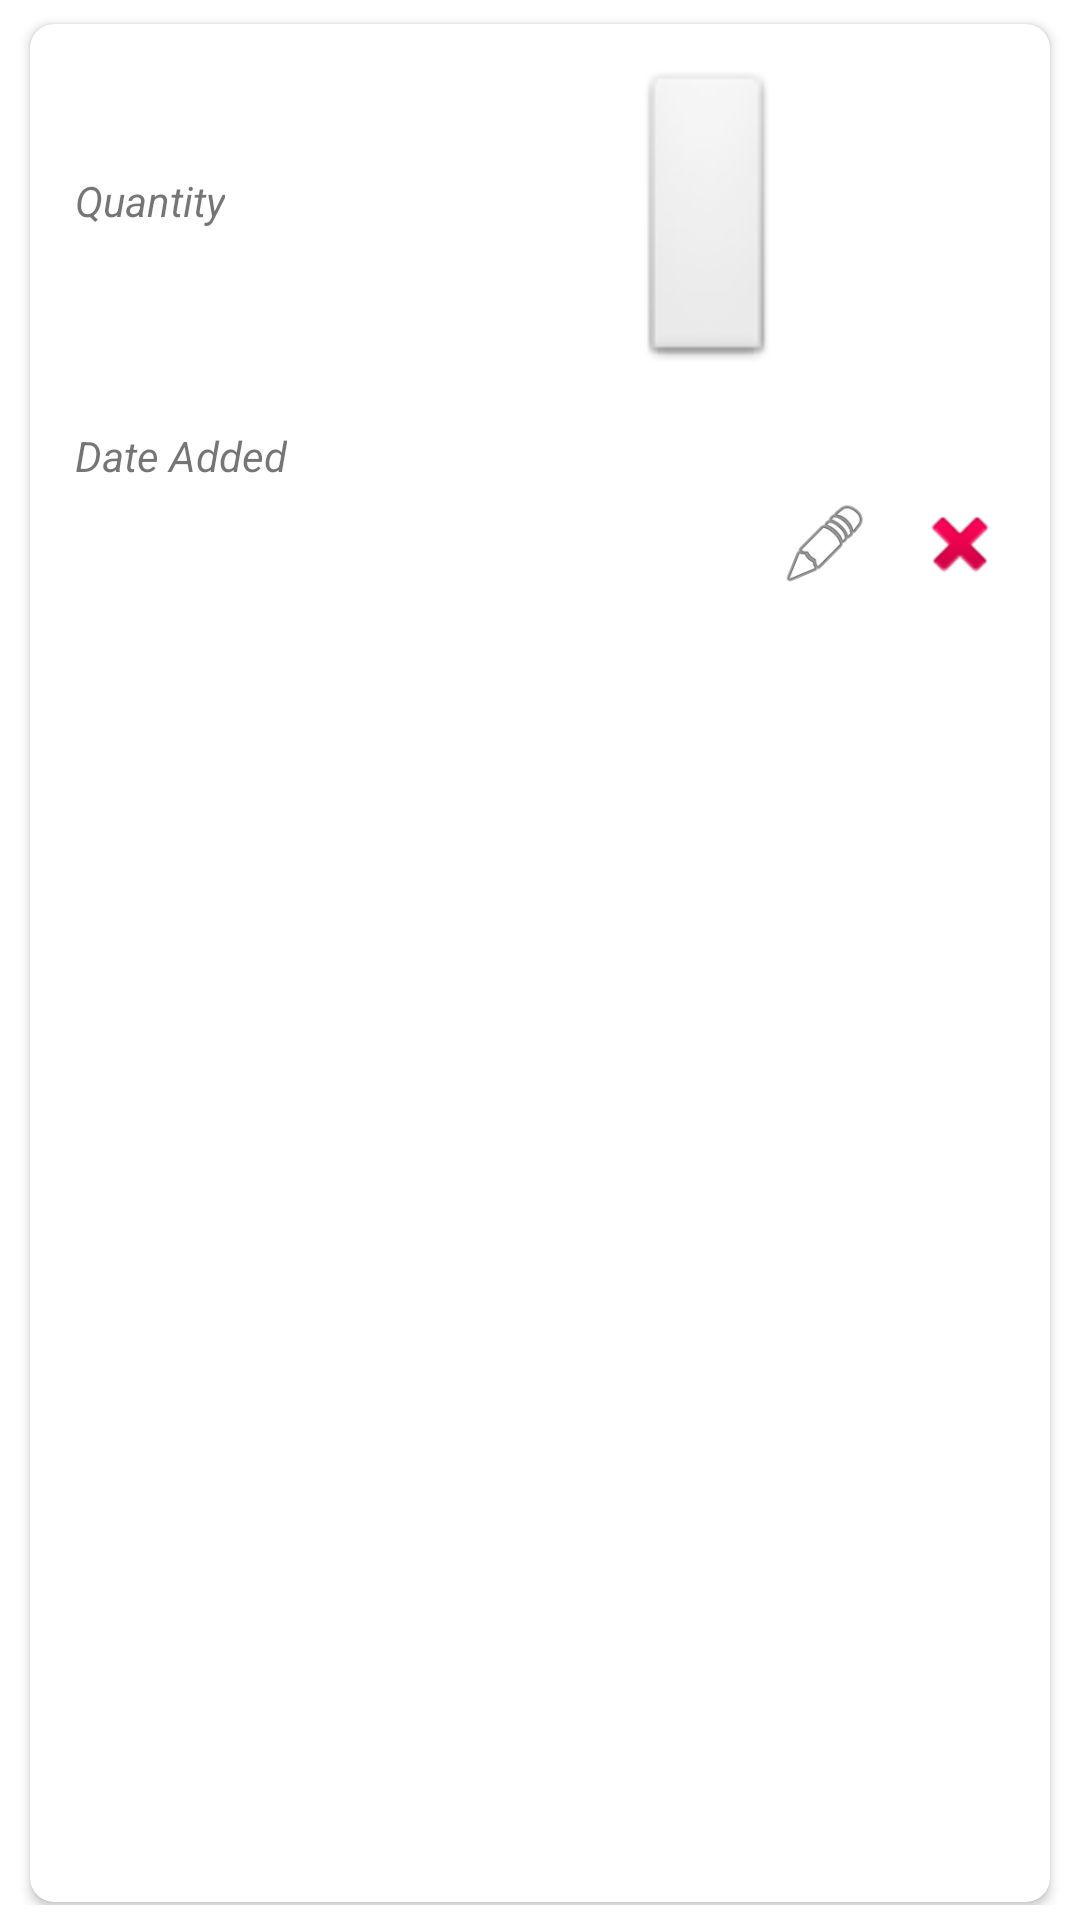

Locate icon controls on the screen. Image size 1080px x 1920px, boxes as (x1, y1, x2, y2).
delete: (931, 517, 989, 572)
edit: (786, 505, 863, 582)
